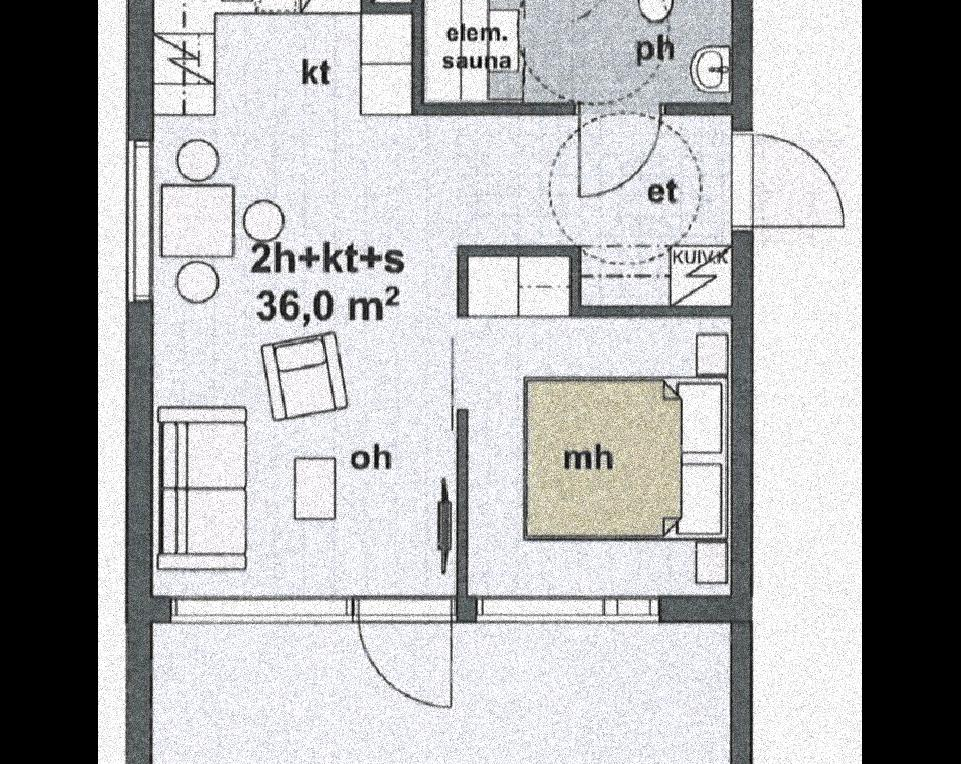door: (358, 592, 455, 724), (722, 128, 843, 232), (576, 90, 664, 204)
window: (478, 596, 662, 624), (174, 592, 348, 618), (128, 130, 152, 312)
zone: (147, 0, 744, 599), (149, 618, 730, 764), (469, 320, 728, 596), (422, 0, 735, 105)
